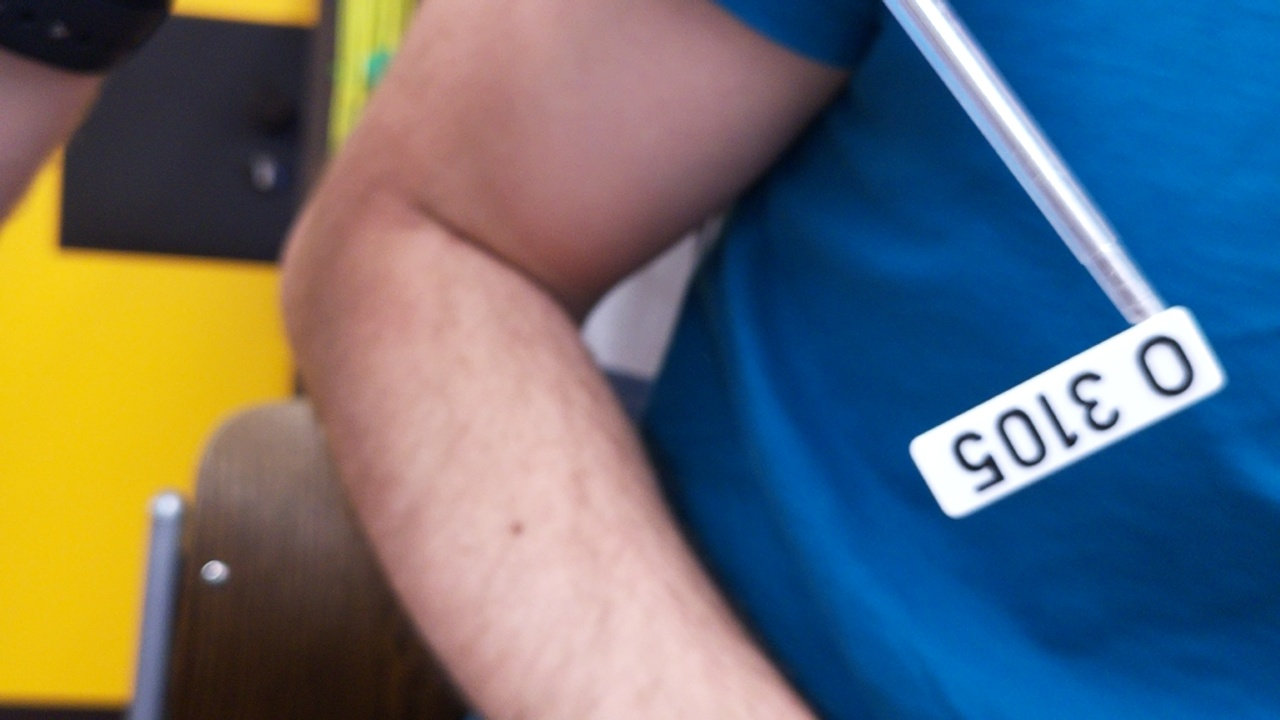license_plate: (906, 301, 1230, 524)
